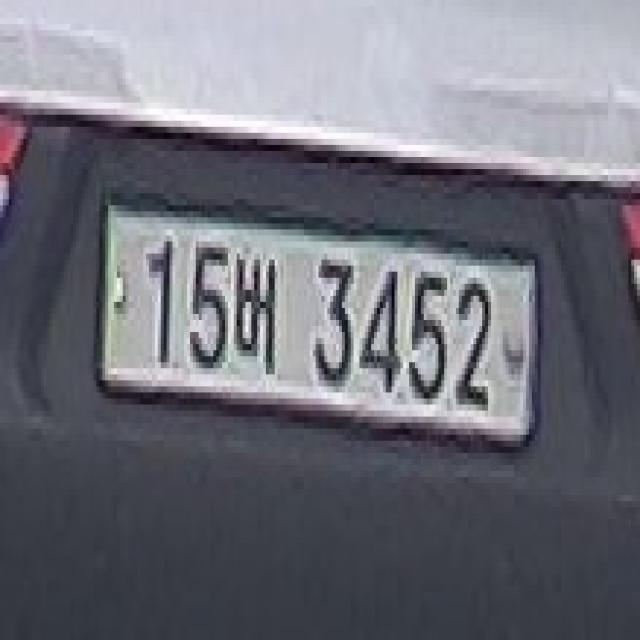1: (143, 212, 184, 386)
2: (450, 260, 503, 422)
3: (307, 242, 359, 398)
4: (354, 248, 406, 404)
5: (187, 224, 234, 380), (406, 260, 453, 410)
beo: (234, 236, 283, 380)
license_plate: (90, 175, 544, 471)
